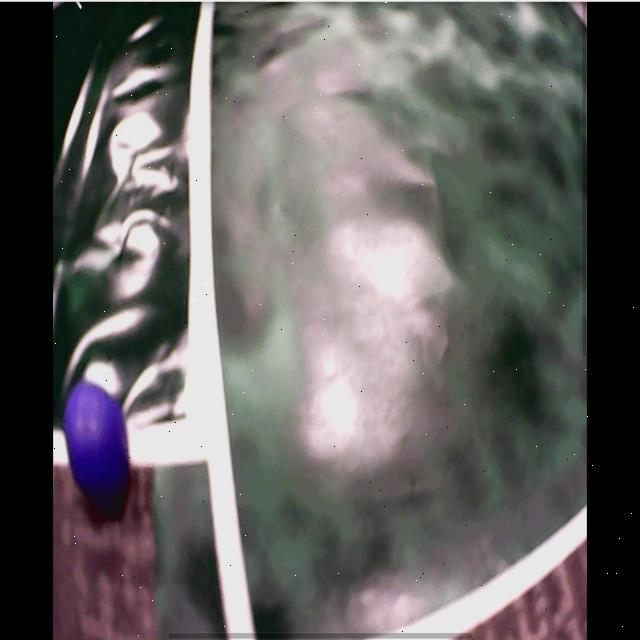ball: (65, 384, 127, 494)
